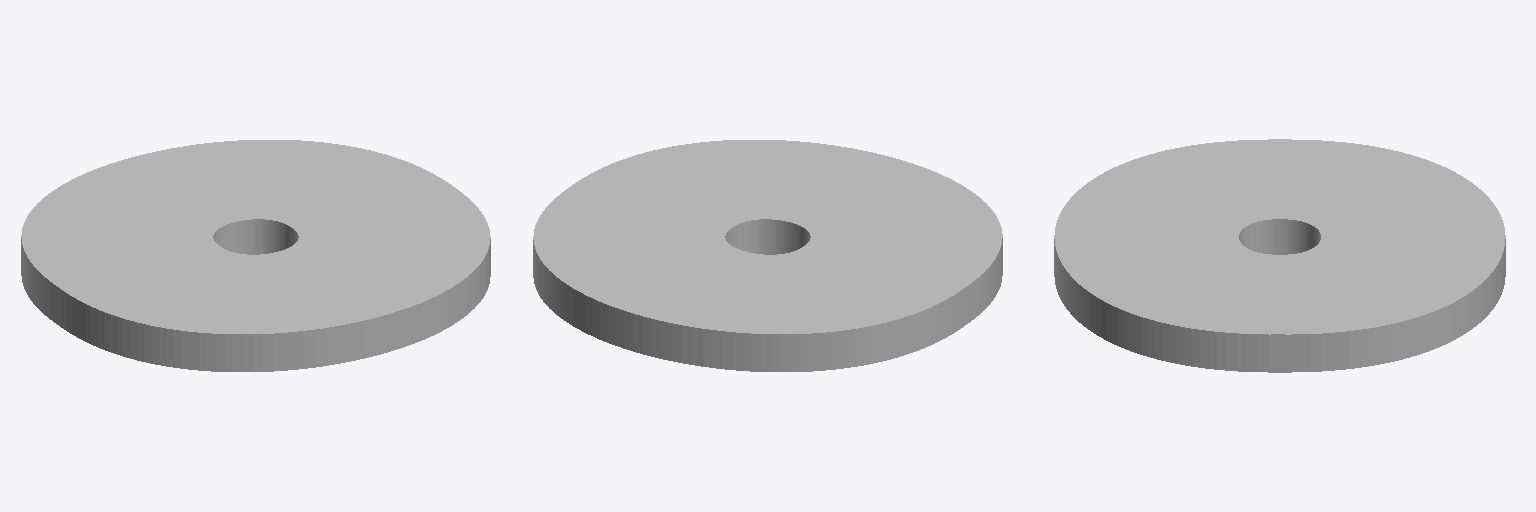
The model's file is sample_04_cond.obj.
3 views of the same model, side by side, from view 1: azimuth 30°, elevation 25°; view 2: azimuth 150°, elevation 25°; view 3: azimuth 270°, elevation 25° (orthographic).
Visible parts, largest first — view 1: mesh3, mesh1, mesh5, mesh0; view 2: mesh3, mesh0, mesh4, mesh1; view 3: mesh3, mesh1, mesh0, mesh4, mesh5.
Part boxes in pixels (bbox=[...]): mesh3: bbox=[21, 140, 490, 333]; mesh1: bbox=[56, 239, 490, 371]; mesh5: bbox=[213, 219, 291, 254]; mesh0: bbox=[21, 238, 55, 322]; mesh3: bbox=[533, 140, 1002, 333]; mesh0: bbox=[533, 240, 967, 371]; mesh4: bbox=[732, 219, 810, 254]; mesh1: bbox=[968, 238, 1002, 322]; mesh3: bbox=[1054, 139, 1505, 334]; mesh1: bbox=[1054, 239, 1279, 372]; mesh0: bbox=[1280, 239, 1505, 372]; mesh4: bbox=[1239, 219, 1279, 254]; mesh5: bbox=[1280, 219, 1320, 254].
Size of the model in its own units: 0.002 by 0.0002 by 0.002.